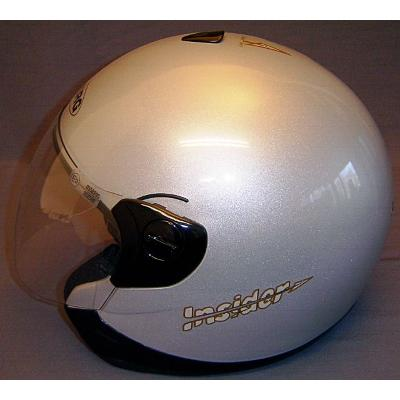helmet: (47, 38, 379, 350)
